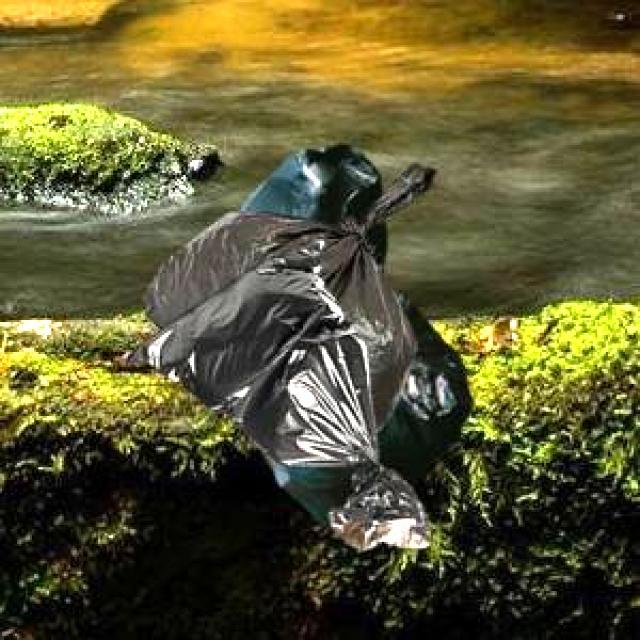Garbage_Bag: (120, 230, 428, 548), (238, 142, 468, 526), (142, 161, 434, 430)
